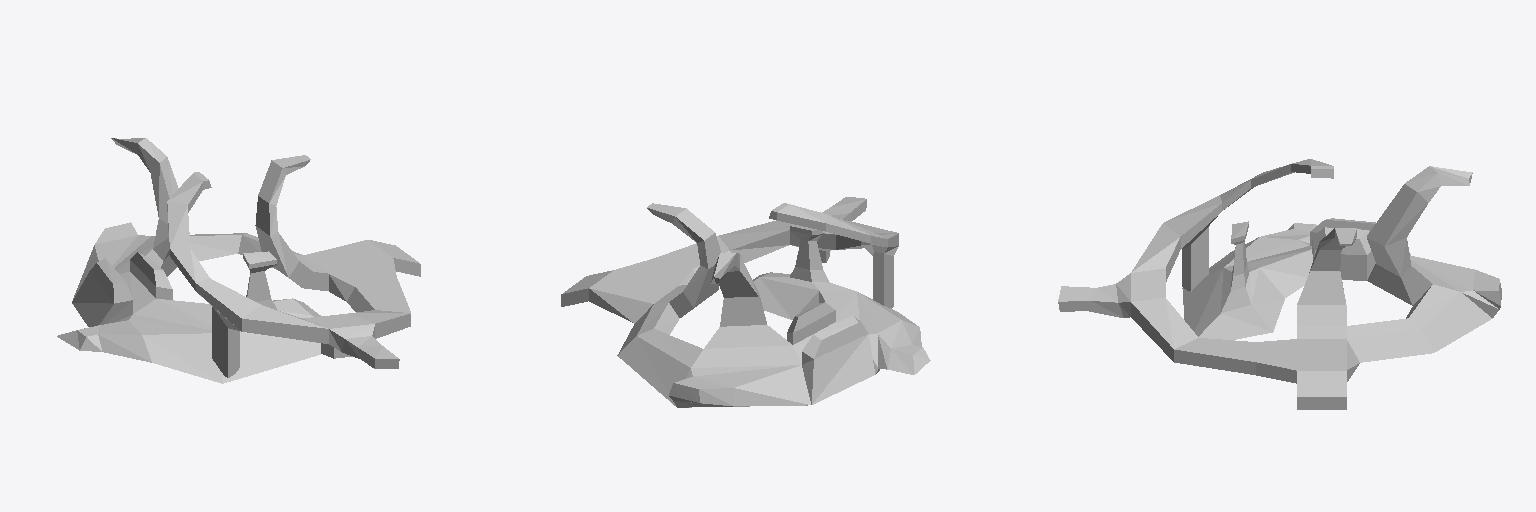
The model's file is World1Base12.obj.
3 renders of one model, left to right at view 1: azimuth 30°, elevation 25°; view 2: azimuth 150°, elevation 25°; view 3: azimuth 270°, elevation 25°, orthographic.
Visible parts, largest first — view 1: World1Base12; view 2: World1Base12; view 3: World1Base12.
Boxes of the visible parts, <box> form: World1Base12: <box>57,138,420,383</box>; World1Base12: <box>561,197,930,407</box>; World1Base12: <box>1058,159,1501,409</box>.
Size of the model in its own units: 56.82 by 22.63 by 63.04.